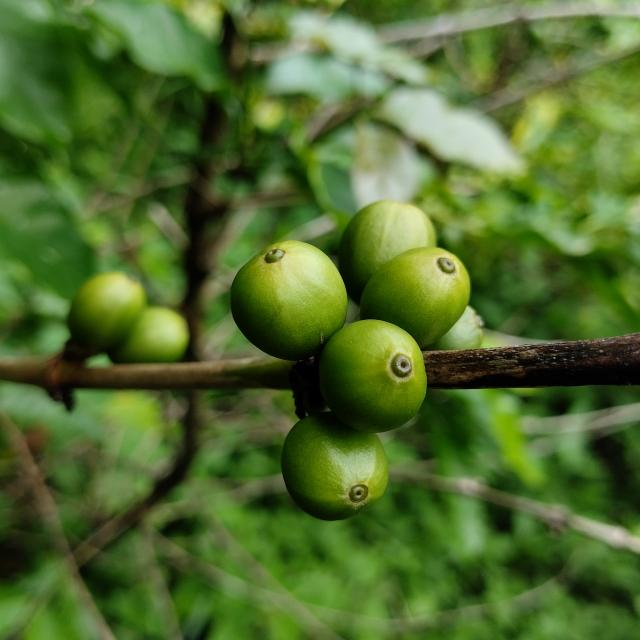green: (230, 240, 348, 361), (319, 320, 428, 433), (281, 412, 389, 521), (360, 247, 471, 348), (339, 200, 437, 303)
